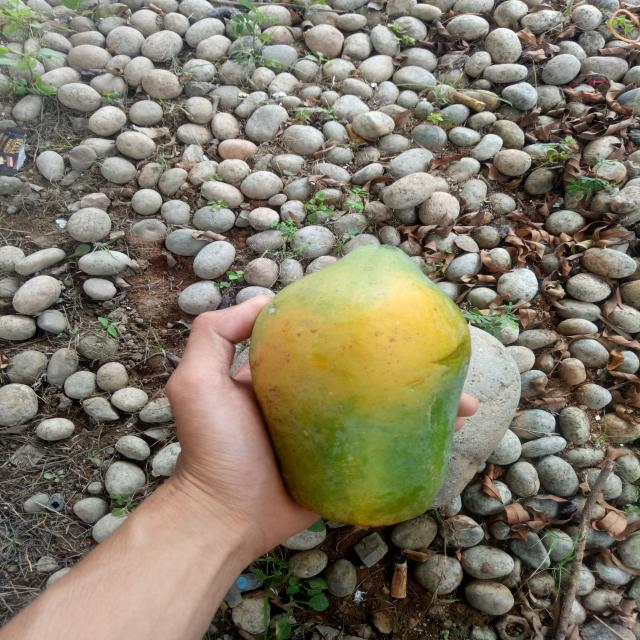Pepaya rippen: (236, 225, 478, 538)
